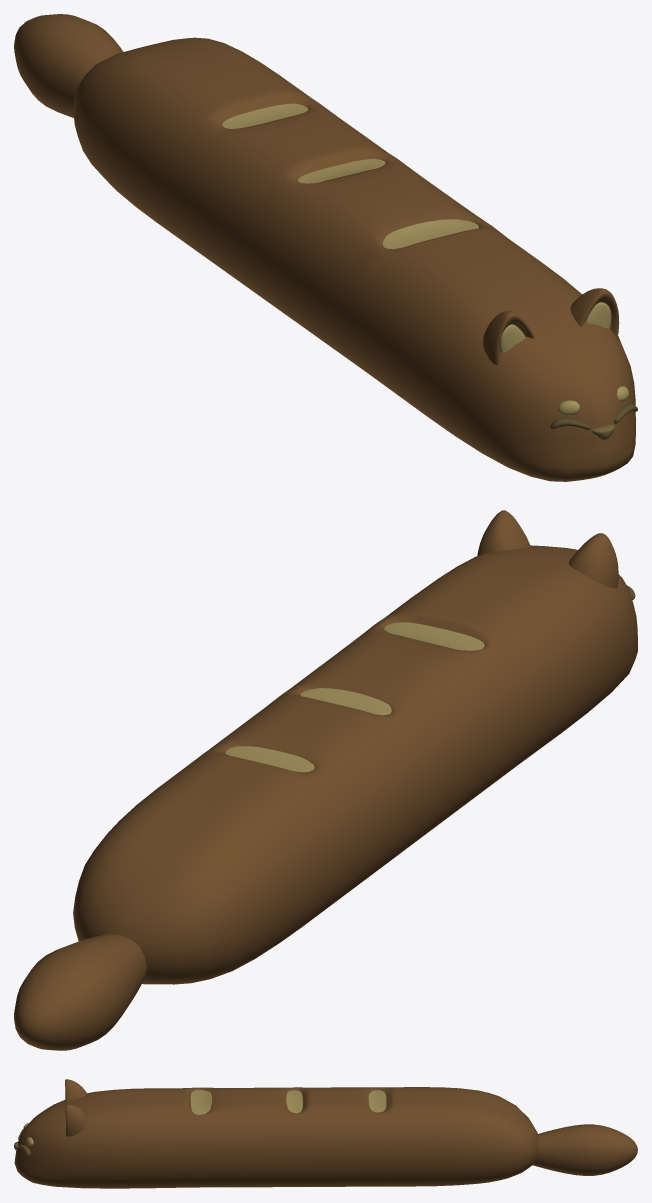
The model's file is BagStillU.fbx.
3 renders of one model, top to bottom at view 1: azimuth 30°, elevation 25°; view 2: azimuth 150°, elevation 25°; view 3: azimuth 270°, elevation 25°, orthographic. The views are drawn at different scales.
Parts seen in each view (by area): view 1: polySurface468, polySurface427, polySurface453, polySurface454; view 2: polySurface468, polySurface427, polySurface453, polySurface454; view 3: polySurface468, polySurface427, polySurface454, polySurface453.
Part boxes in pixels (x1,y1,x2,y2): polySurface468: (73,37,637,481); polySurface427: (14,14,123,117); polySurface453: (483,310,534,364); polySurface454: (570,288,619,337); polySurface468: (73,545,637,984); polySurface427: (14,934,146,1050); polySurface453: (568,533,618,588); polySurface454: (477,510,530,555); polySurface468: (14,1087,538,1188); polySurface427: (533,1124,637,1175); polySurface454: (65,1104,87,1136); polySurface453: (65,1079,86,1102).
Bounding box in the file's own units: 1.34 × 1.15 × 7.49.
